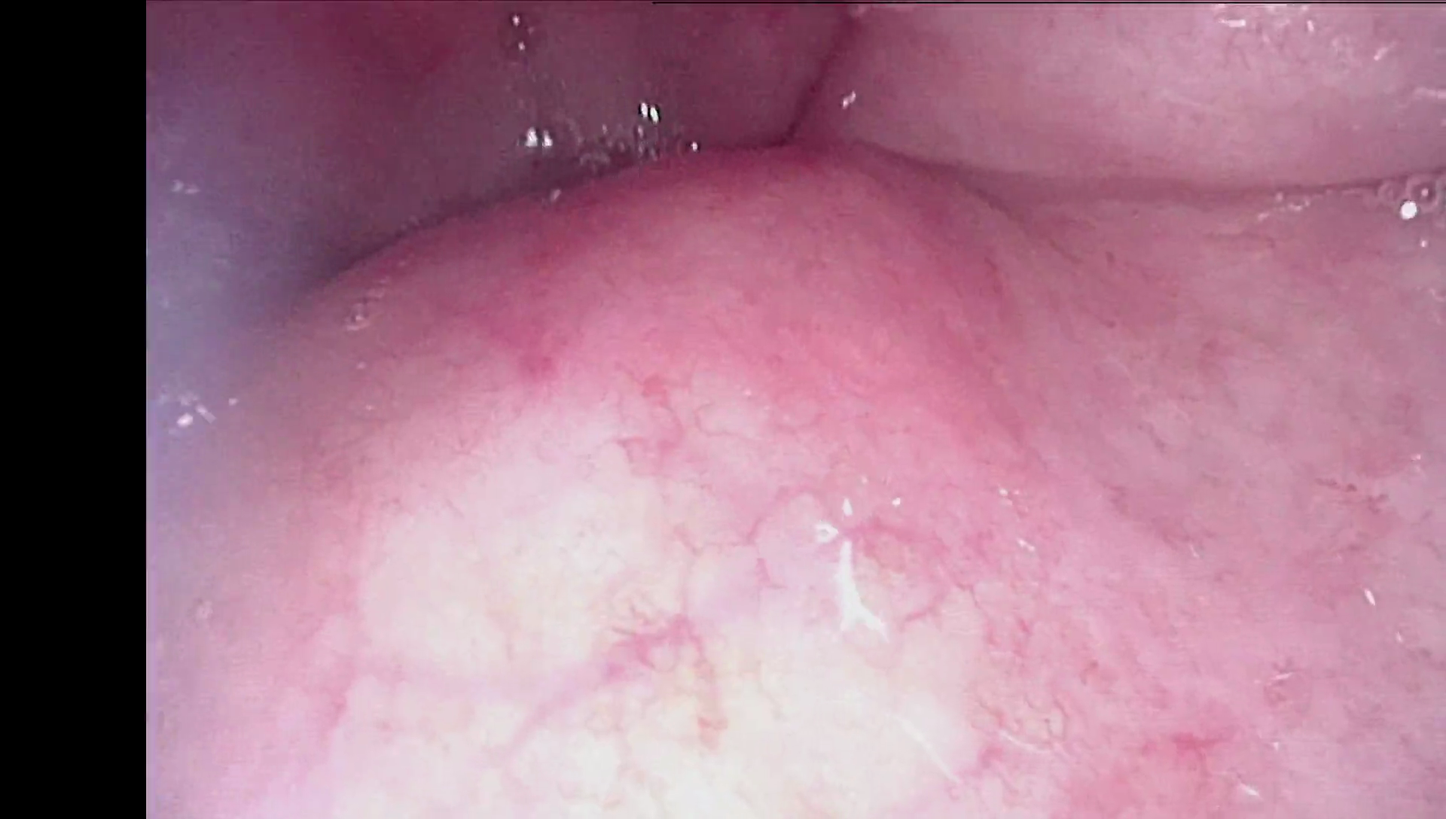close_wall: (302, 364, 1139, 819)
next: (149, 174, 407, 313)
